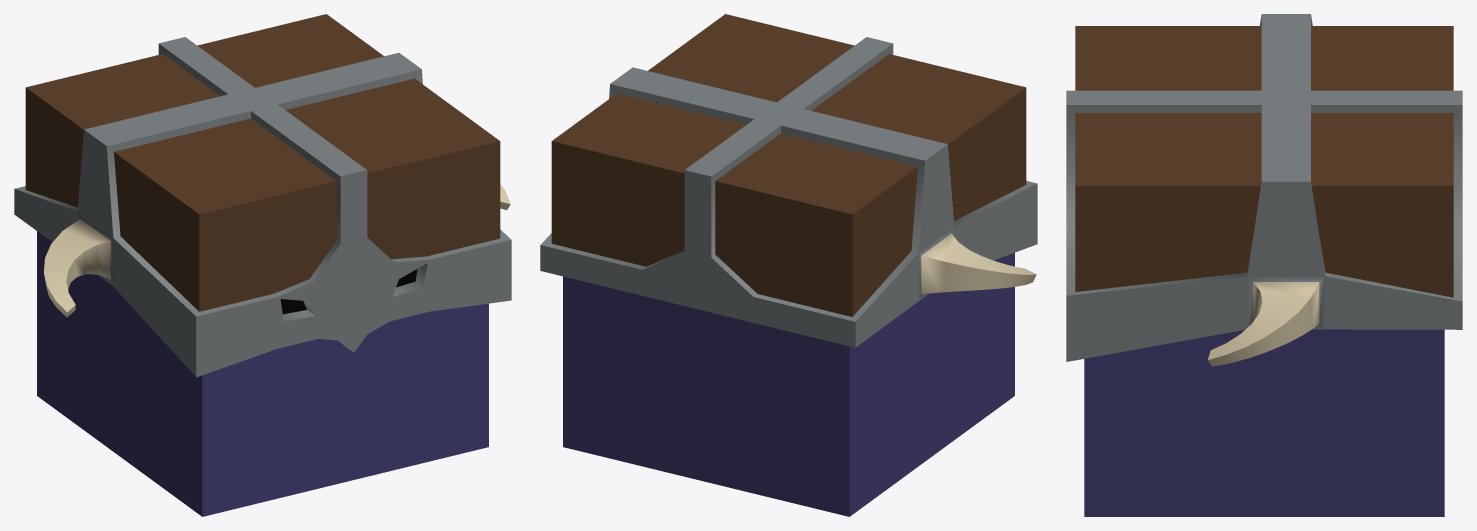
The model's file is Guard.fbx.
The picture shows the model from 3 angles, left to right: view 1: azimuth 30°, elevation 25°; view 2: azimuth 150°, elevation 25°; view 3: azimuth 270°, elevation 25°; orthographic projection. The views are drawn at different scales.
Visible parts, largest first — view 1: Cube; view 2: Cube; view 3: Cube.
Boxes of the visible parts, bbox=[...] form: Cube: bbox=[14, 14, 511, 516]; Cube: bbox=[540, 14, 1037, 516]; Cube: bbox=[1066, 14, 1462, 516].
Size of the model in its own units: 314 by 210 by 220.
